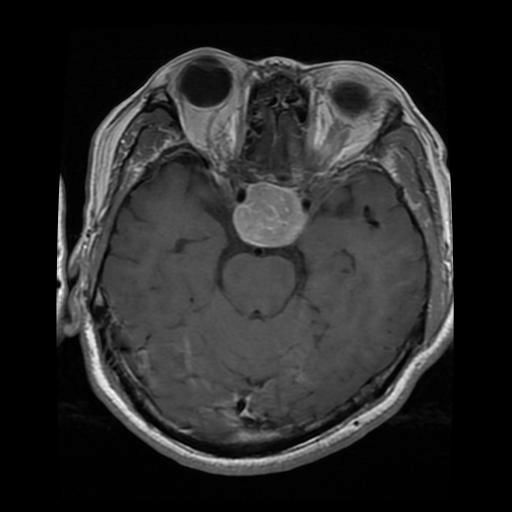Tumour-Pituitary: (231, 186, 311, 250)
